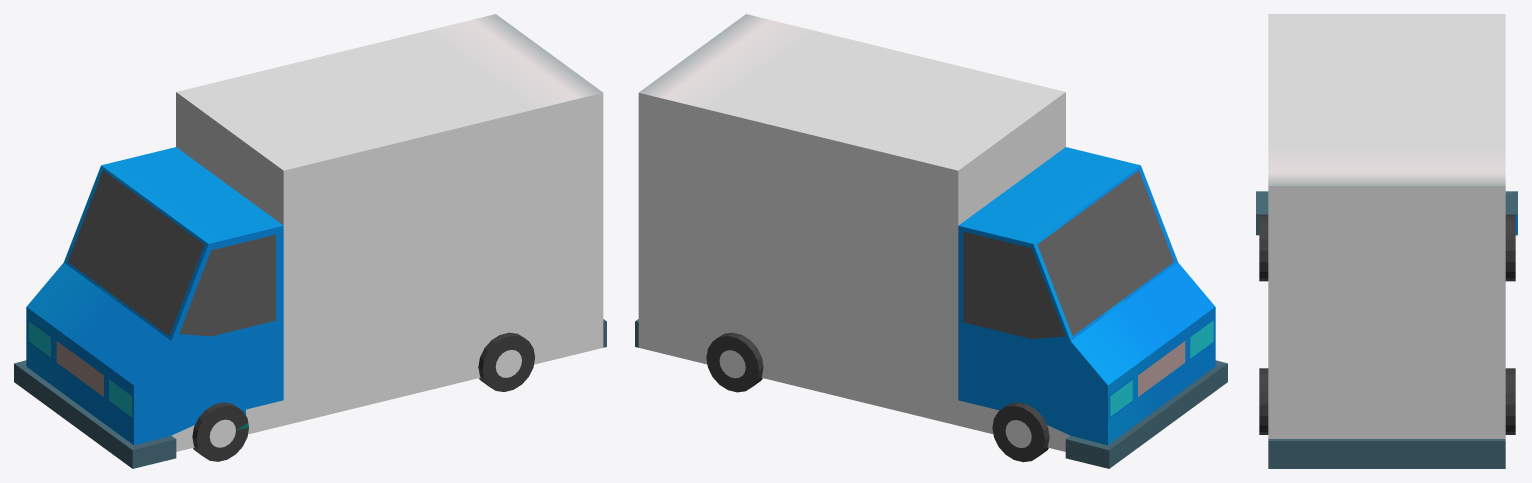
File: car2.obj
3 views of the same model, side by side, from view 1: azimuth 30°, elevation 25°; view 2: azimuth 150°, elevation 25°; view 3: azimuth 270°, elevation 25° (orthographic). The views are drawn at different scales.
Visible parts, largest first — view 1: ROAD.189; view 2: ROAD.189; view 3: ROAD.189.
Boxes of the visible parts, left/top/right/bottom form: ROAD.189: left=14, top=14, right=606, bottom=468; ROAD.189: left=635, top=14, right=1227, bottom=468; ROAD.189: left=1256, top=14, right=1517, bottom=468.
Bounding box in the file's own units: 28.85 × 15.57 × 12.36.
Materials: 1 (1 with a texture image).
